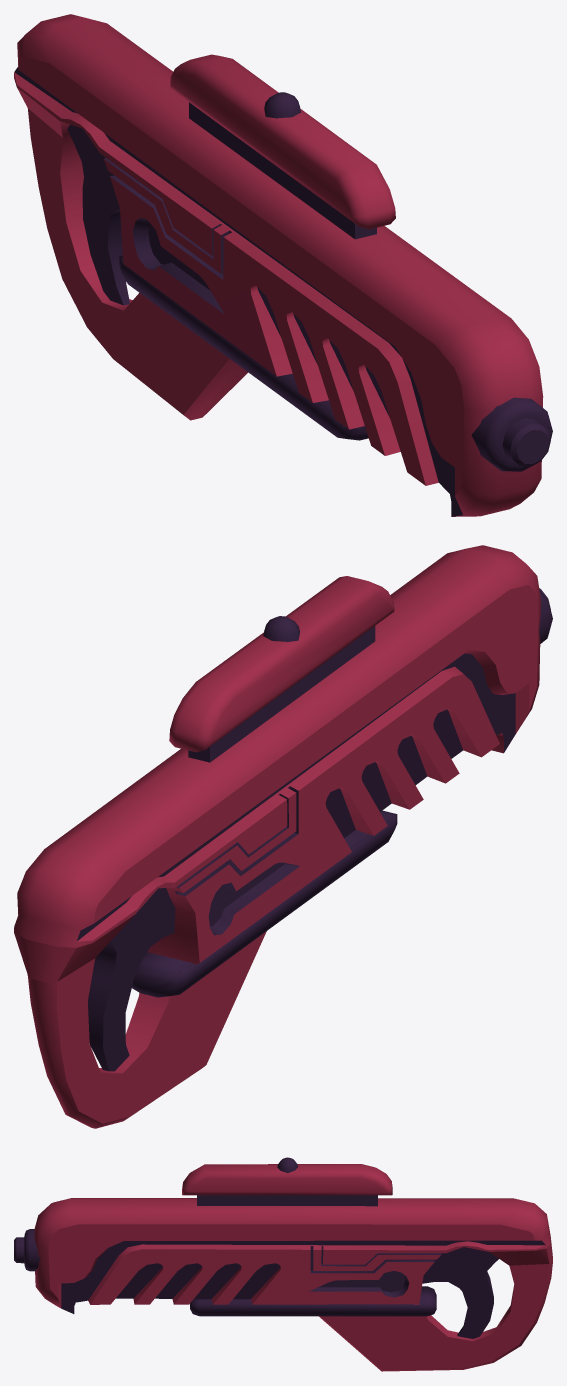
Rendered from blaster_06.fbx.
3 renders of one model, top to bottom at view 1: azimuth 30°, elevation 25°; view 2: azimuth 150°, elevation 25°; view 3: azimuth 270°, elevation 25°, orthographic. The views are drawn at different scales.
Parts seen in each view (by area): view 1: Gun 6, Cube.009, Box.037, Cube.007, Cylinder, Cube.008, Sphere.005; view 2: Gun 6, Cube.009, Box.037, Cube.007, Cube.008, Sphere.005; view 3: Gun 6, Cube.009, Cube.007, Box.037, Cube.008, Cylinder.
Part boxes in pixels (bbox=[...]): Gun 6: bbox=[14, 14, 543, 516]; Cube.009: bbox=[170, 54, 395, 229]; Box.037: bbox=[67, 124, 129, 305]; Cube.007: bbox=[119, 255, 368, 440]; Cylinder: bbox=[471, 397, 552, 471]; Cube.008: bbox=[189, 102, 376, 239]; Sphere.005: bbox=[264, 92, 300, 118]; Gun 6: bbox=[14, 545, 540, 1128]; Cube.009: bbox=[169, 576, 394, 752]; Box.037: bbox=[88, 888, 175, 1071]; Cube.007: bbox=[132, 810, 397, 997]; Cube.008: bbox=[188, 626, 375, 762]; Sphere.005: bbox=[263, 616, 299, 642]; Gun 6: bbox=[34, 1198, 552, 1371]; Cube.009: bbox=[182, 1164, 392, 1195]; Cube.007: bbox=[190, 1286, 436, 1316]; Box.037: bbox=[422, 1247, 498, 1338]; Cube.008: bbox=[197, 1195, 377, 1206]; Cylinder: bbox=[14, 1229, 40, 1271].
Size of the model in its own units: 14.55 by 70.1 by 162.
Materials: 1 (1 with a texture image).
